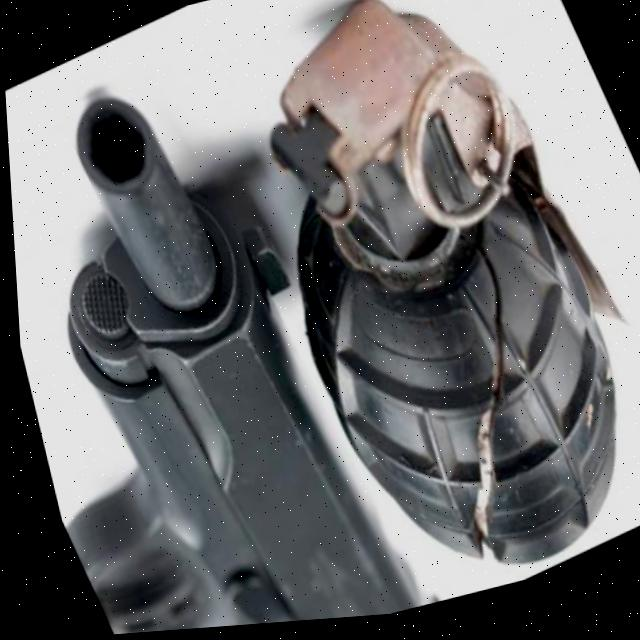grenade: (155, 0, 640, 631)
